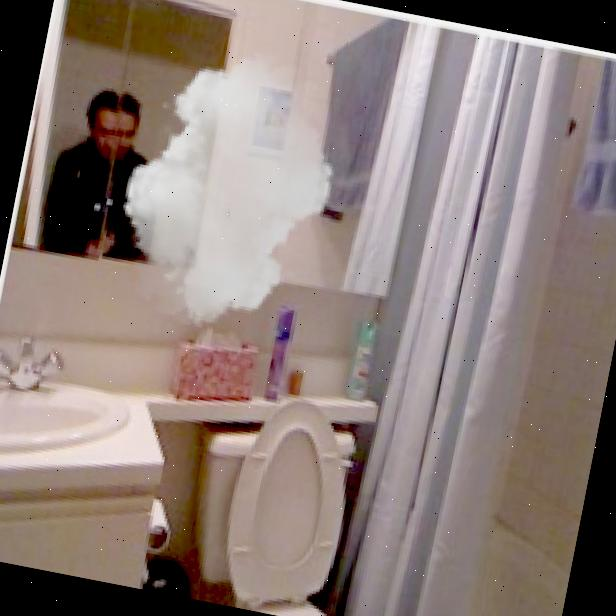smoke: (95, 33, 362, 349)
